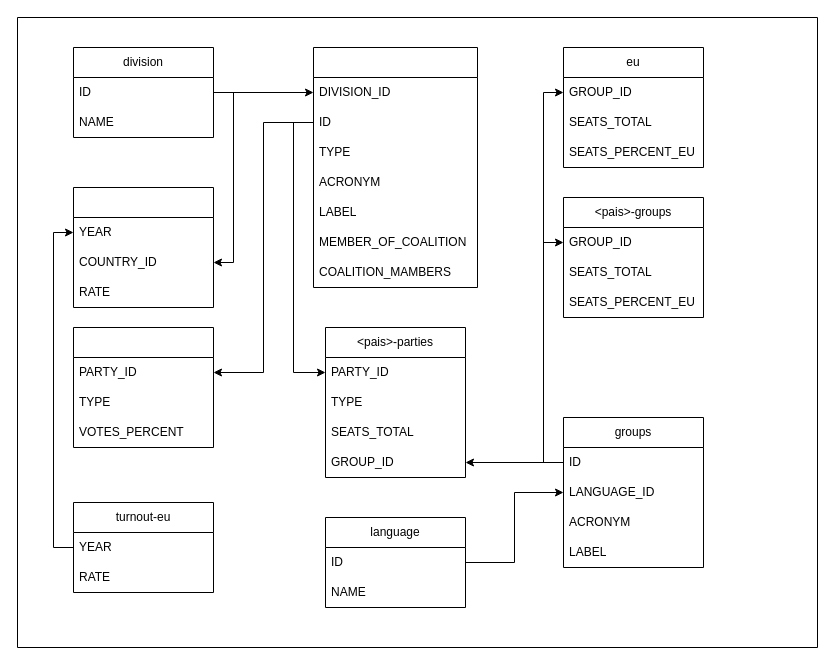
Image size: 835x665. Some labels were removed from this diagram. Each missing label, with the box of its shape:
<pais>-results-parties: (72, 326, 214, 448)
parties: (312, 46, 478, 288)
turnout-country: (72, 186, 214, 308)
